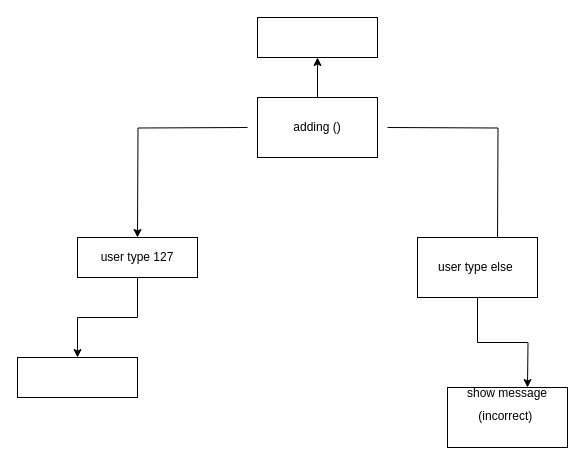
The diagram is 585 pixels wide and 466 high, and some of its shapes have lost their labels. Here are the shapes that lost their labels. From the top down, the centre of each, then its label:
the point at 317,37: first riddle (127)
the point at 77,377: show message (correct)
